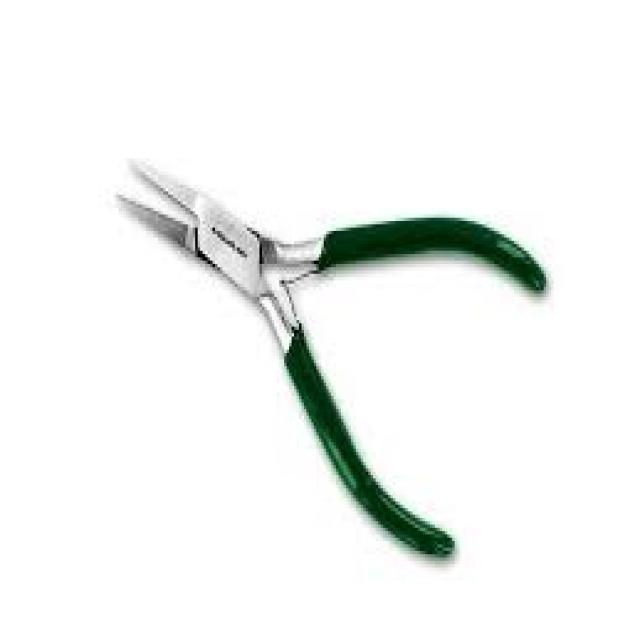pliers: (108, 143, 552, 568)
